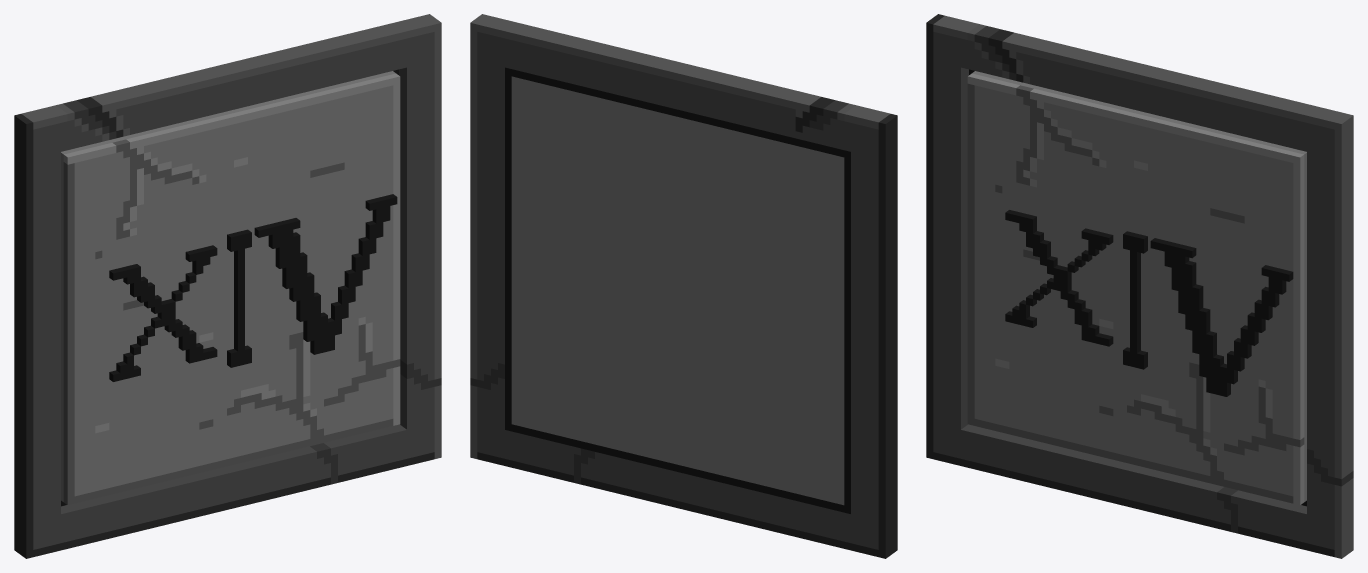
File: balpan_14.obj
3 views of the same model, side by side, from view 1: azimuth 30°, elevation 25°; view 2: azimuth 150°, elevation 25°; view 3: azimuth 330°, elevation 25° (orthographic).
Parts seen in each view (by area): view 1: balpan_14; view 2: balpan_14; view 3: balpan_14.
Boxes of the visible parts, box(x1,y1,x2,y2) form: balpan_14: box(14, 14, 441, 558); balpan_14: box(470, 14, 897, 558); balpan_14: box(926, 14, 1353, 558).
Bounding box in the file's own units: 60 × 60 × 4.
Materials: 1 (1 with a texture image).
